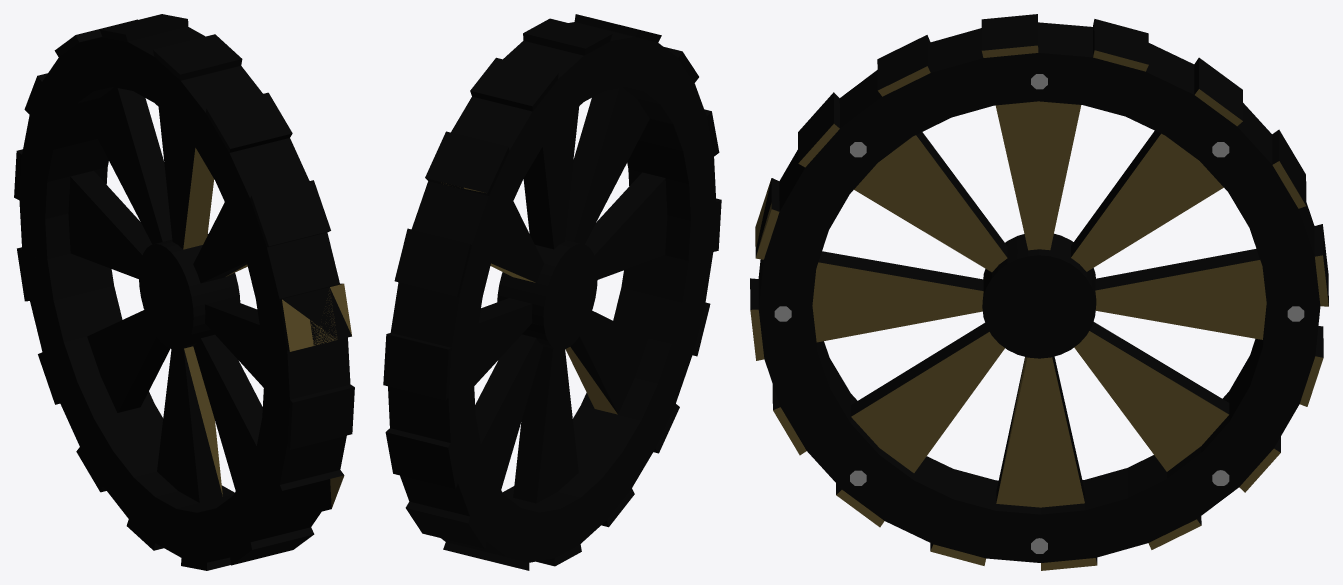
Rendered from Wheel.glb.
3 renders of one model, left to right at view 1: azimuth 30°, elevation 25°; view 2: azimuth 150°, elevation 25°; view 3: azimuth 270°, elevation 25°, orthographic. The views are drawn at different scales.
Parts seen in each view (by area): view 1: Wheel; view 2: Wheel; view 3: Wheel.
Part boxes in pixels (<box>): Wheel: <box>14,14,354,570</box>; Wheel: <box>383,14,721,570</box>; Wheel: <box>750,14,1328,570</box>.
Bounding box in the file's own units: 0.2943 × 2.06 × 2.06.
